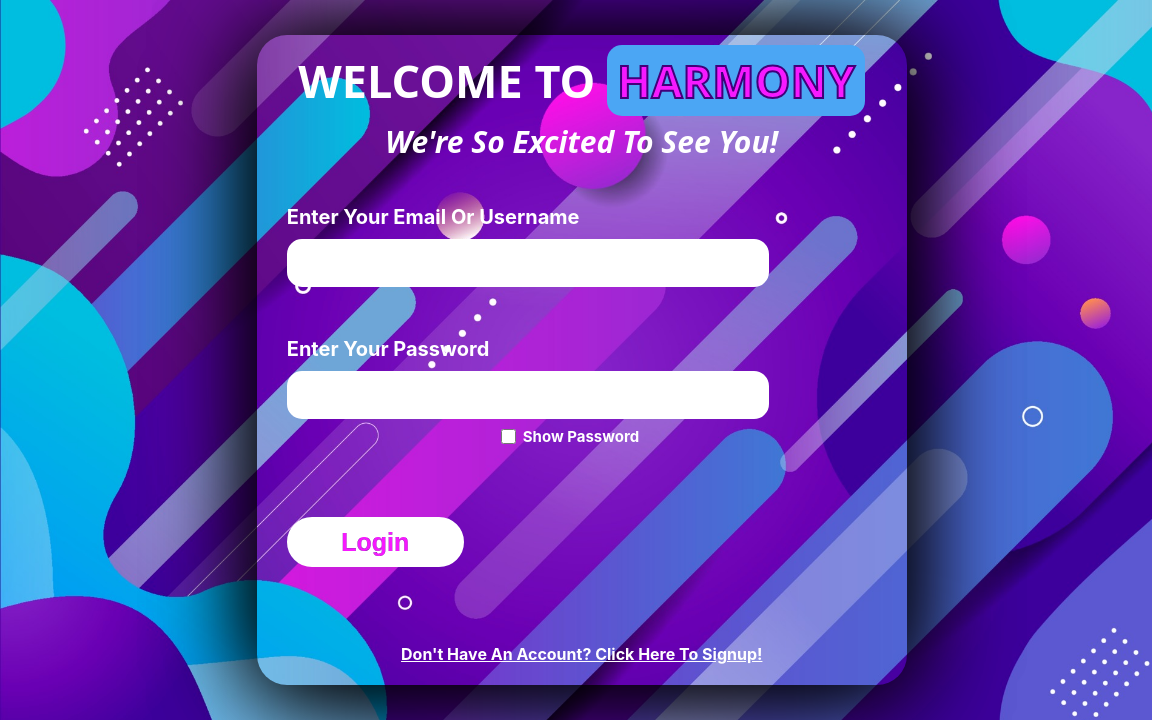
Test case: Login Component › displays error messages for empty inputs [Login]
This screenshot has width=1152, height=720.
Click the button "login".
click(375, 542)  # box [287,517,464,567]
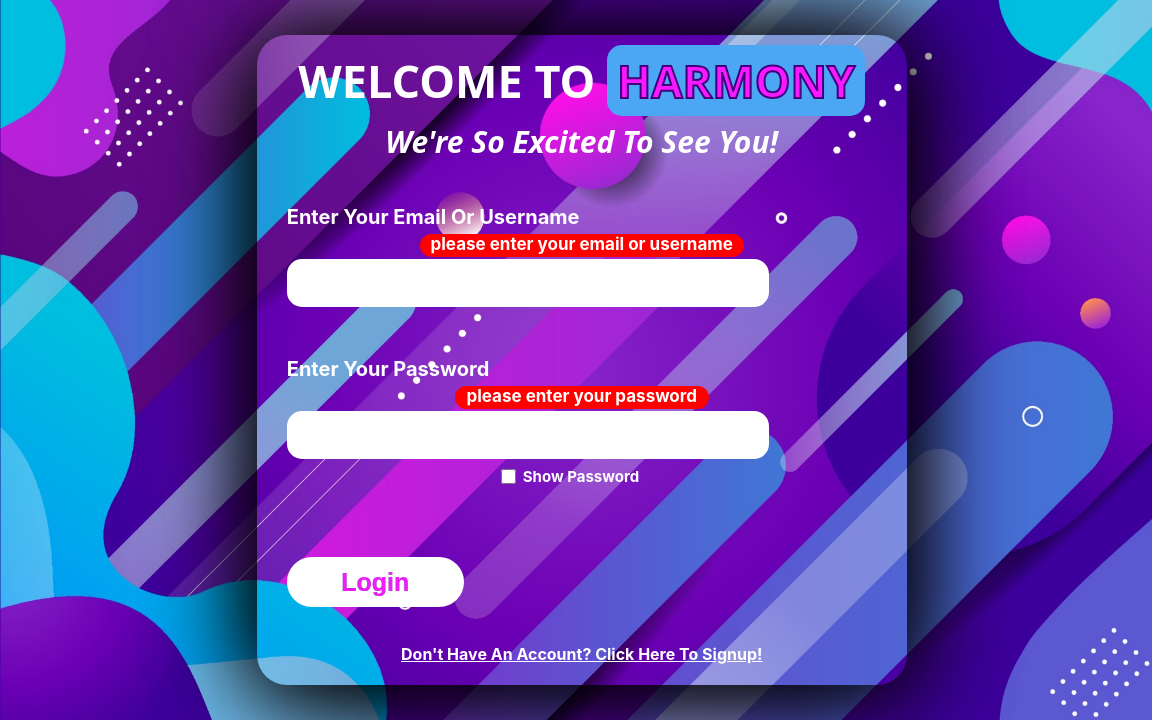
expect the text "please enter your email or username" is shown: met, box [420,234,744,257]
expect the text "please enter your password" is shown: met, box [455,386,709,409]
